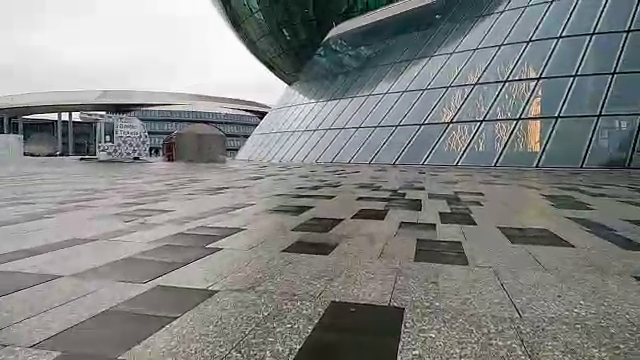kassa: (78, 106, 158, 167)
